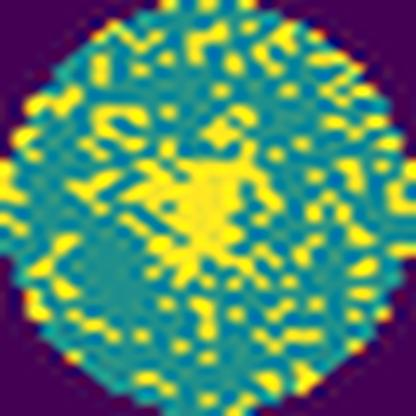Center: (119, 139, 286, 286)
